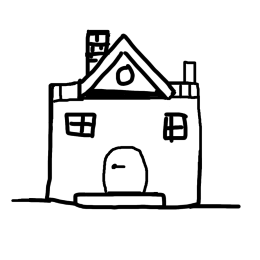chimney: (80, 14, 114, 69), (174, 45, 203, 90)
closed_window: (54, 108, 104, 144), (160, 105, 195, 150)
door: (96, 135, 152, 201)
roof: (33, 28, 244, 104)
wall: (41, 93, 207, 221)
